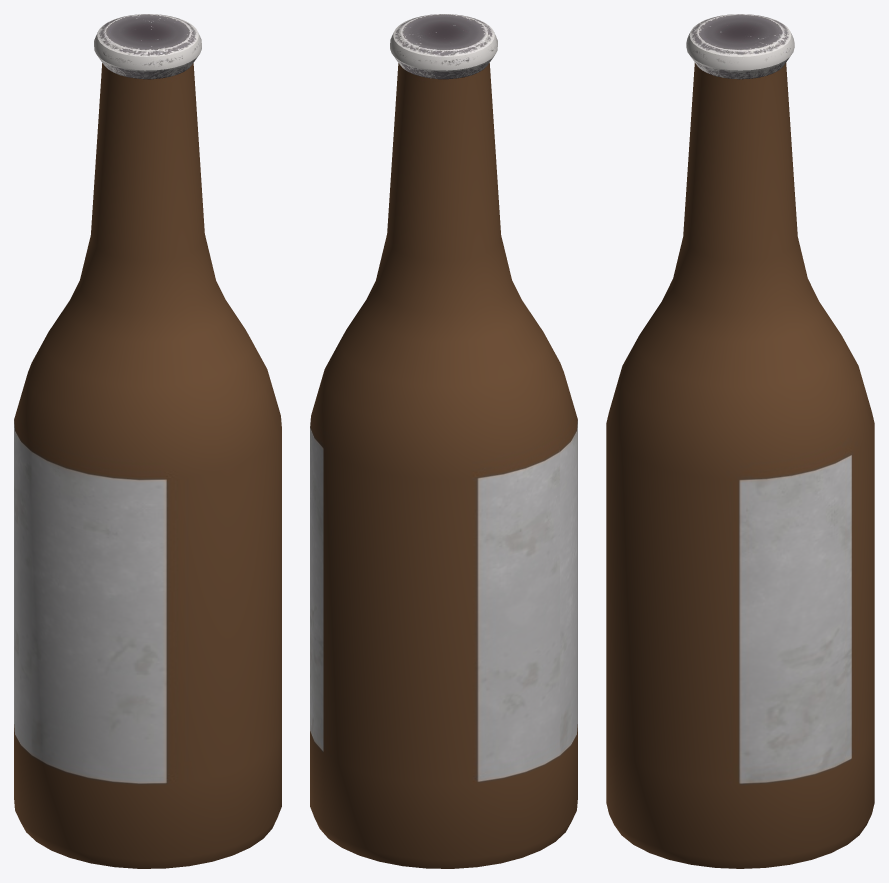
Rendered from bottle-01.fbx.
3 views of the same model, side by side, from view 1: azimuth 30°, elevation 25°; view 2: azimuth 150°, elevation 25°; view 3: azimuth 270°, elevation 25° (orthographic).
Visible parts, largest first — view 1: bottle_01_bottles_0; view 2: bottle_01_bottles_0; view 3: bottle_01_bottles_0.
Part boxes in pixels (box(x1,y1,x2,y2)): bottle_01_bottles_0: box(14, 14, 281, 868); bottle_01_bottles_0: box(310, 14, 577, 868); bottle_01_bottles_0: box(606, 14, 874, 868).
Bounding box in the file's own units: 1.86 × 6.04 × 1.86.
